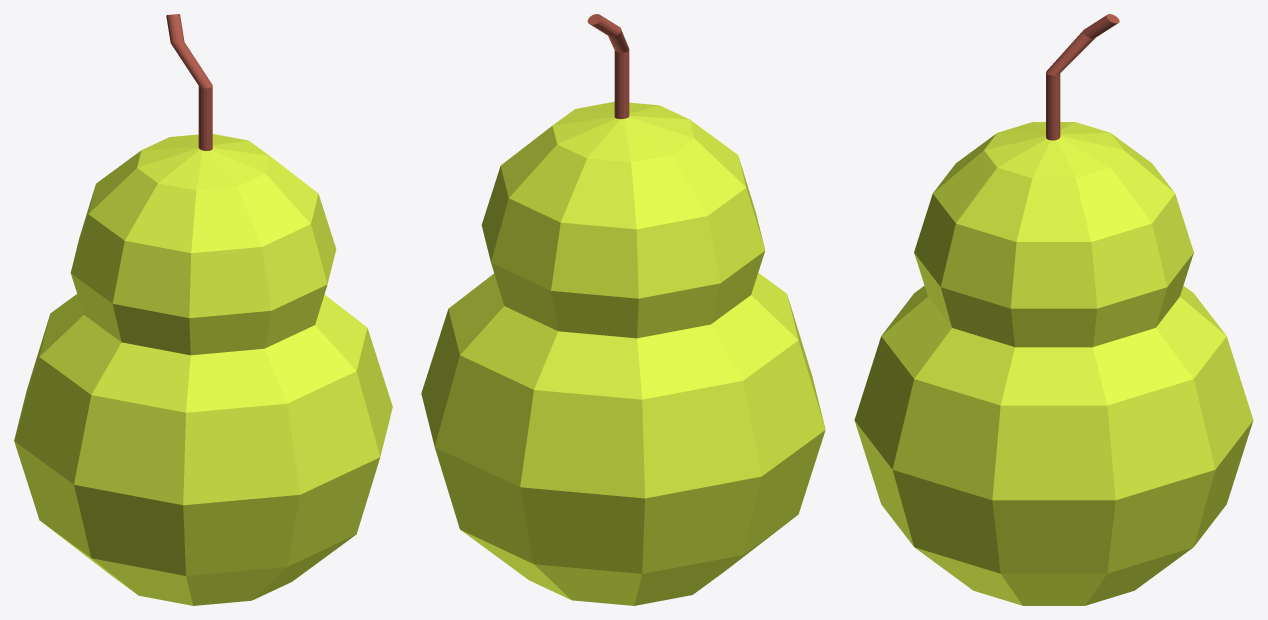
Rendered from fruit15.fbx.
The picture shows the model from 3 angles, left to right: view 1: azimuth 30°, elevation 25°; view 2: azimuth 150°, elevation 25°; view 3: azimuth 270°, elevation 25°; orthographic projection. The views are drawn at different scales.
Parts seen in each view (by area): view 1: Sphere; view 2: Sphere; view 3: Sphere.
Boxes of the visible parts, x1,y1,x2,y2 form: Sphere: [14, 14, 392, 605]; Sphere: [421, 14, 825, 605]; Sphere: [854, 14, 1253, 605].
Bounding box in the file's own units: 0.142 × 0.236 × 0.1493.
